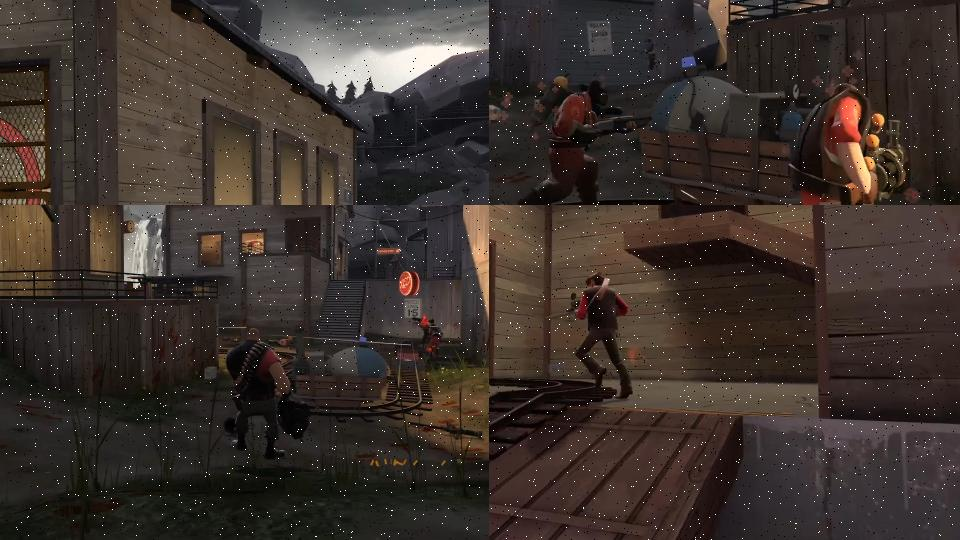Enemy: (491, 70, 654, 205), (787, 81, 910, 205), (542, 265, 636, 405), (226, 328, 313, 461), (644, 37, 662, 79), (411, 317, 434, 348), (428, 324, 442, 360)
